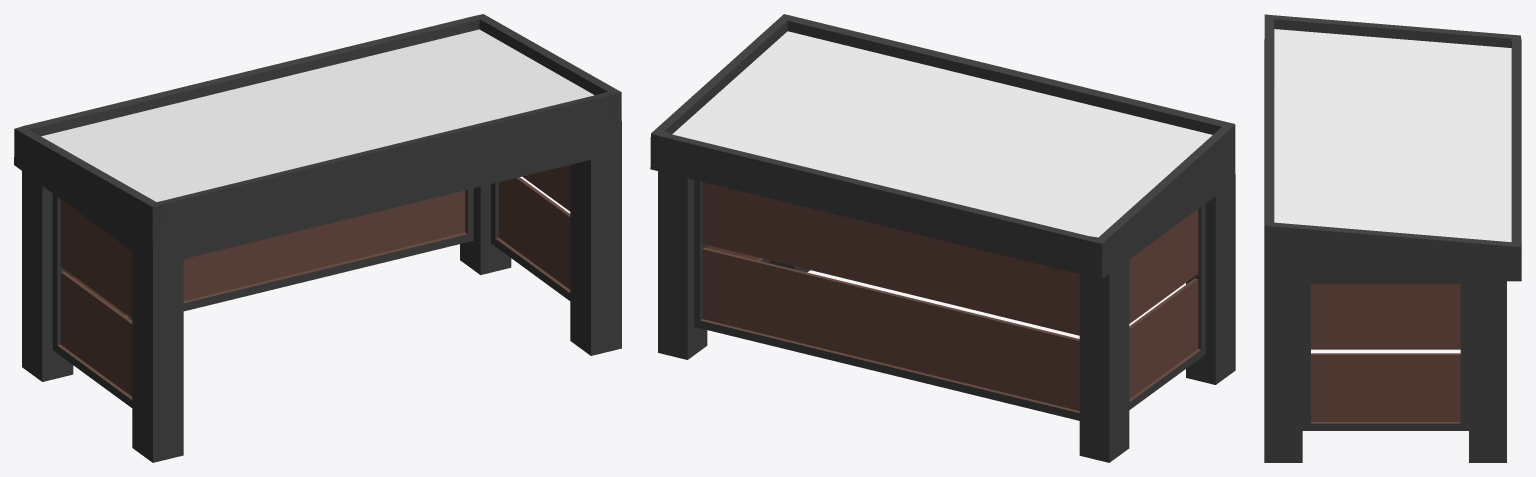
File: veg shelf 2.fbx
3 renders of one model, left to right at view 1: azimuth 30°, elevation 25°; view 2: azimuth 150°, elevation 25°; view 3: azimuth 270°, elevation 25°, orthographic. The views are drawn at different scales.
Visible parts, largest first — view 1: Cube.002; view 2: Cube.002; view 3: Cube.002.
Boxes of the visible parts, box(x1,y1,x2,y2) form: Cube.002: box(14, 14, 621, 462); Cube.002: box(650, 14, 1235, 462); Cube.002: box(1264, 14, 1521, 462).
Size of the model in its own units: 1080 by 564 by 554.
